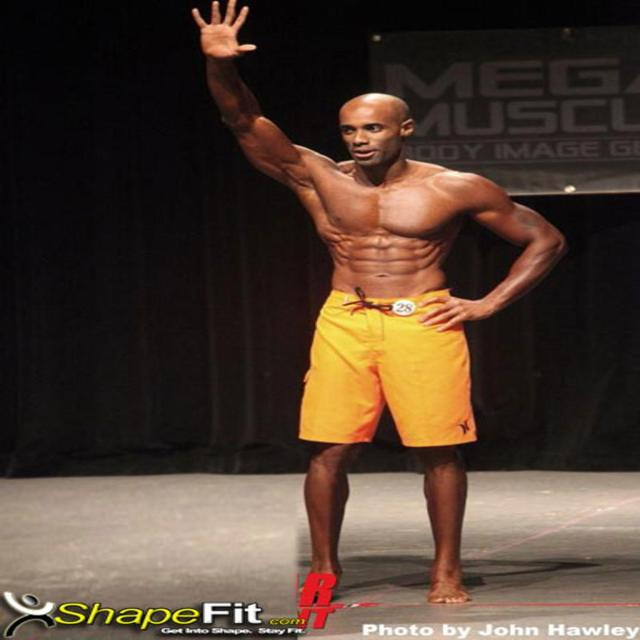Face: (348, 99, 396, 164)
